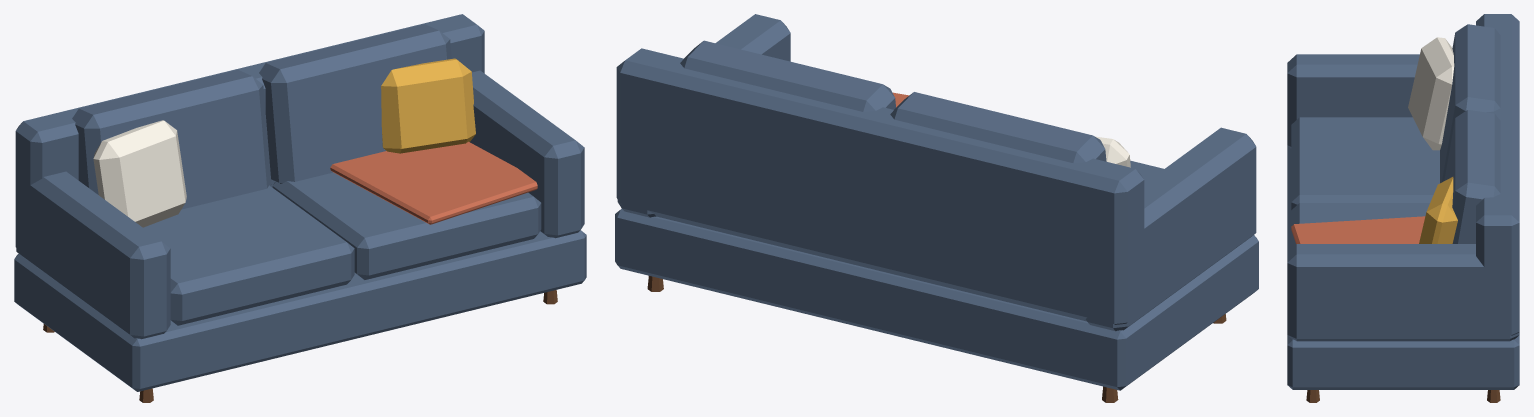
Rendered from sofa.glb.
3 renders of one model, left to right at view 1: azimuth 30°, elevation 25°; view 2: azimuth 150°, elevation 25°; view 3: azimuth 270°, elevation 25°, orthographic. The views are drawn at different scales.
Visible parts, largest first — view 1: Sofa; view 2: Sofa; view 3: Sofa.
Boxes of the visible parts, <box> form: Sofa: <box>14,14,586,402</box>; Sofa: <box>615,14,1258,402</box>; Sofa: <box>1287,14,1519,402</box>.
Bounding box in the file's own units: 1.8 × 0.8251 × 0.85.
